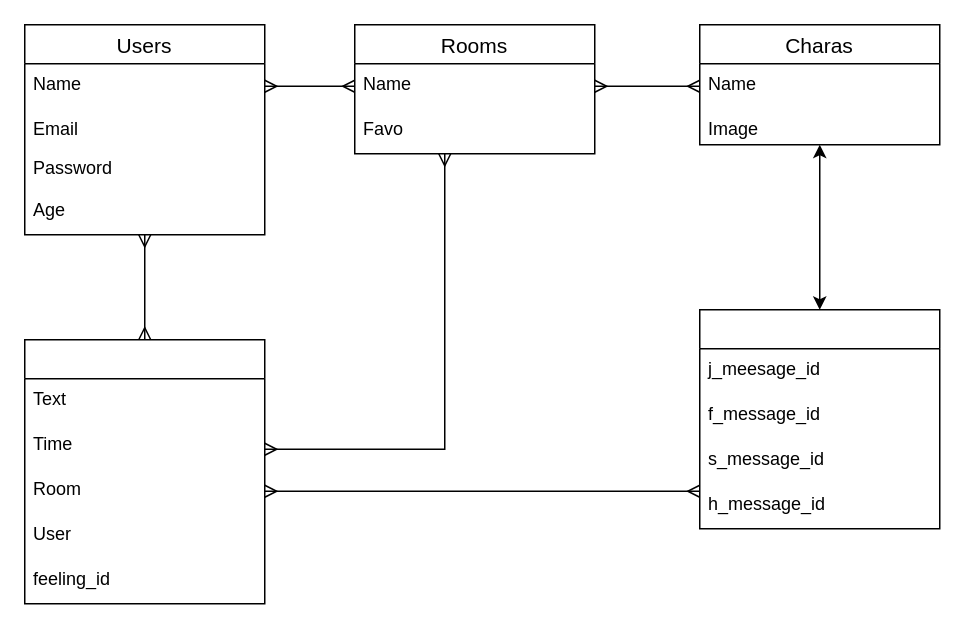
Image size: 965x629. Some labels were removed from this diagram. Here are the shapes that lost their labels. From the top down, the box of each, then its label:
(698, 308, 940, 529): Chara_messages
(23, 338, 265, 604): Messages
